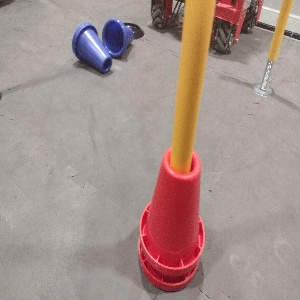Blue_1: (69, 19, 113, 76), (99, 16, 135, 58)
Red_2: (137, 142, 206, 290)
